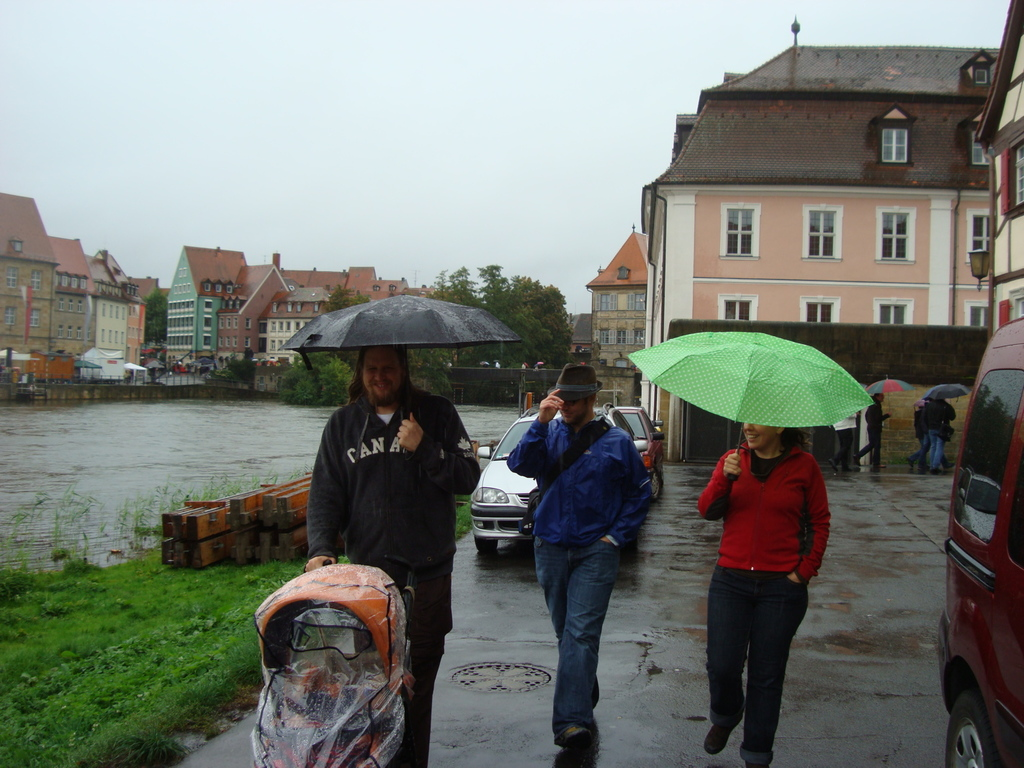Car: (931, 318, 1023, 767), (464, 409, 640, 555), (610, 403, 666, 496), (614, 407, 662, 426)
